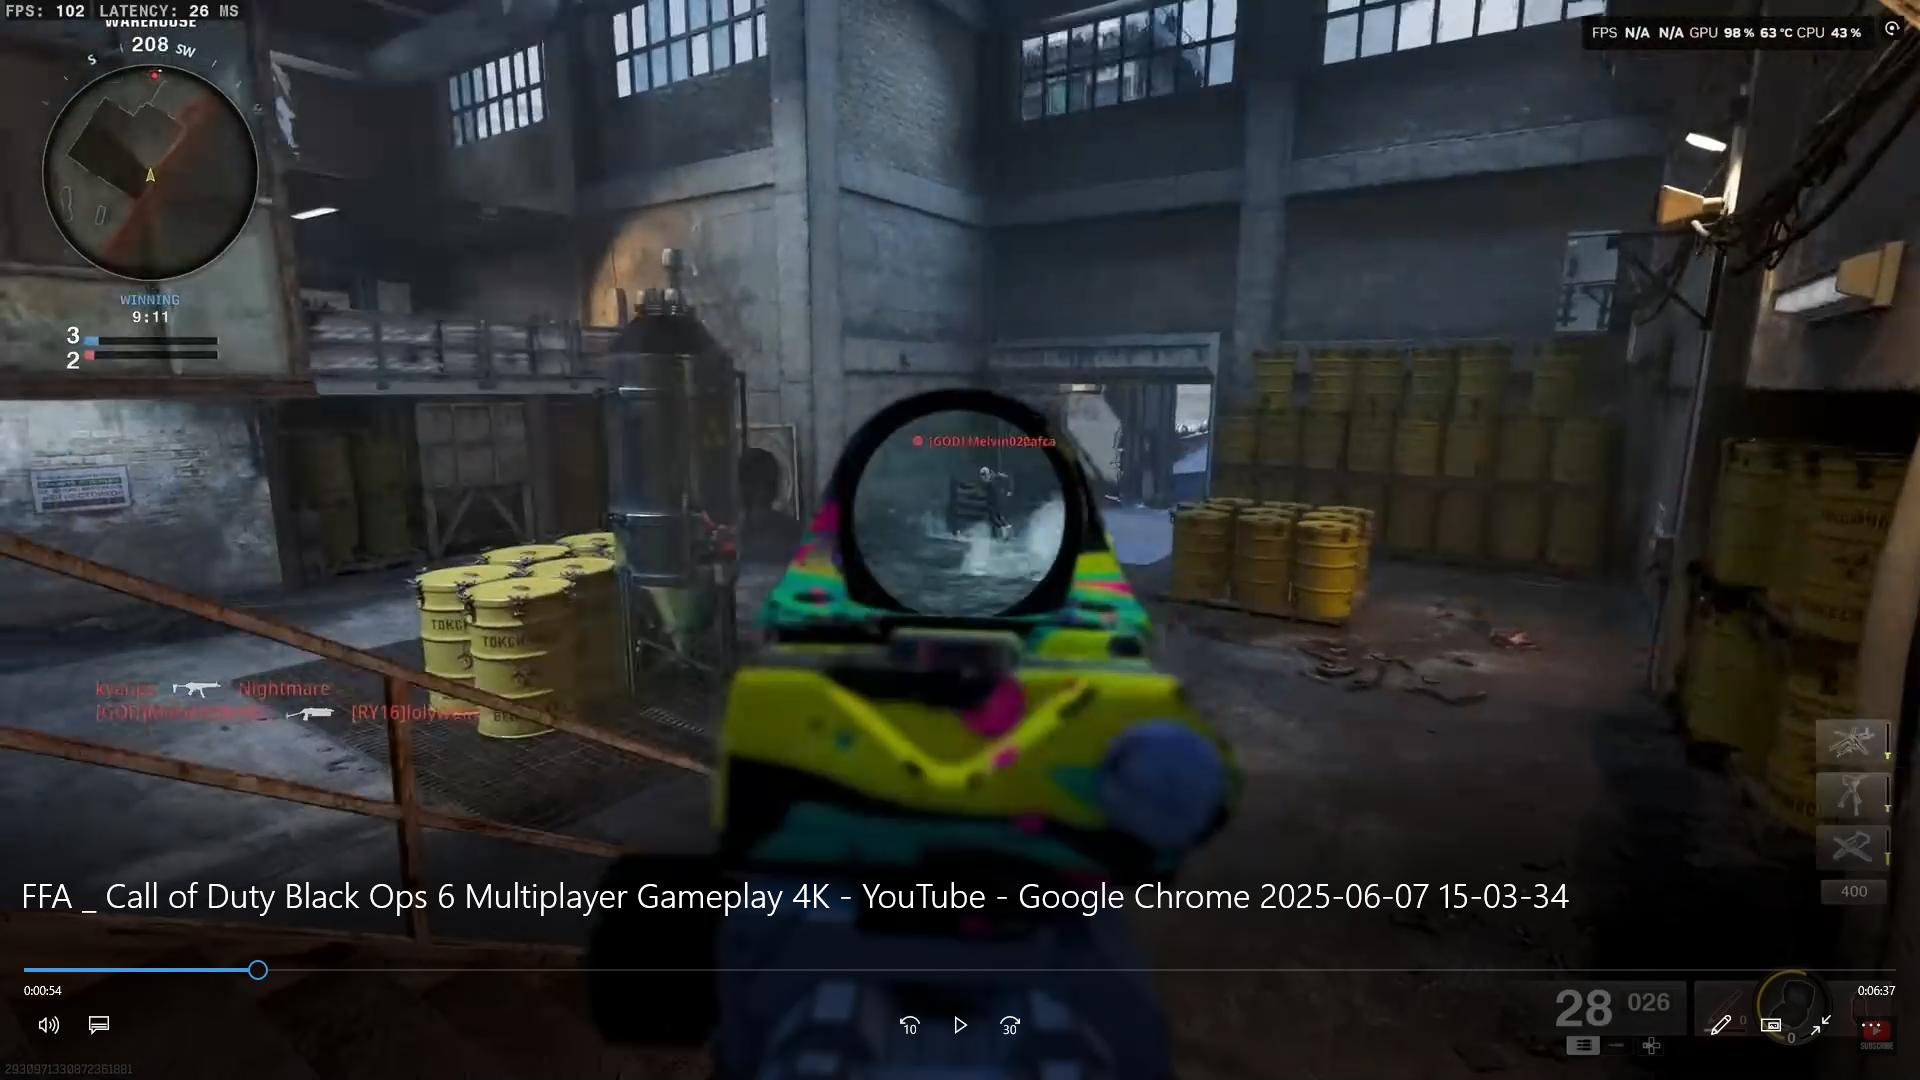Enemy: (953, 451, 1030, 547)
